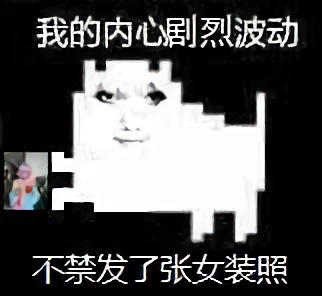dragon: (92, 85, 170, 146)
